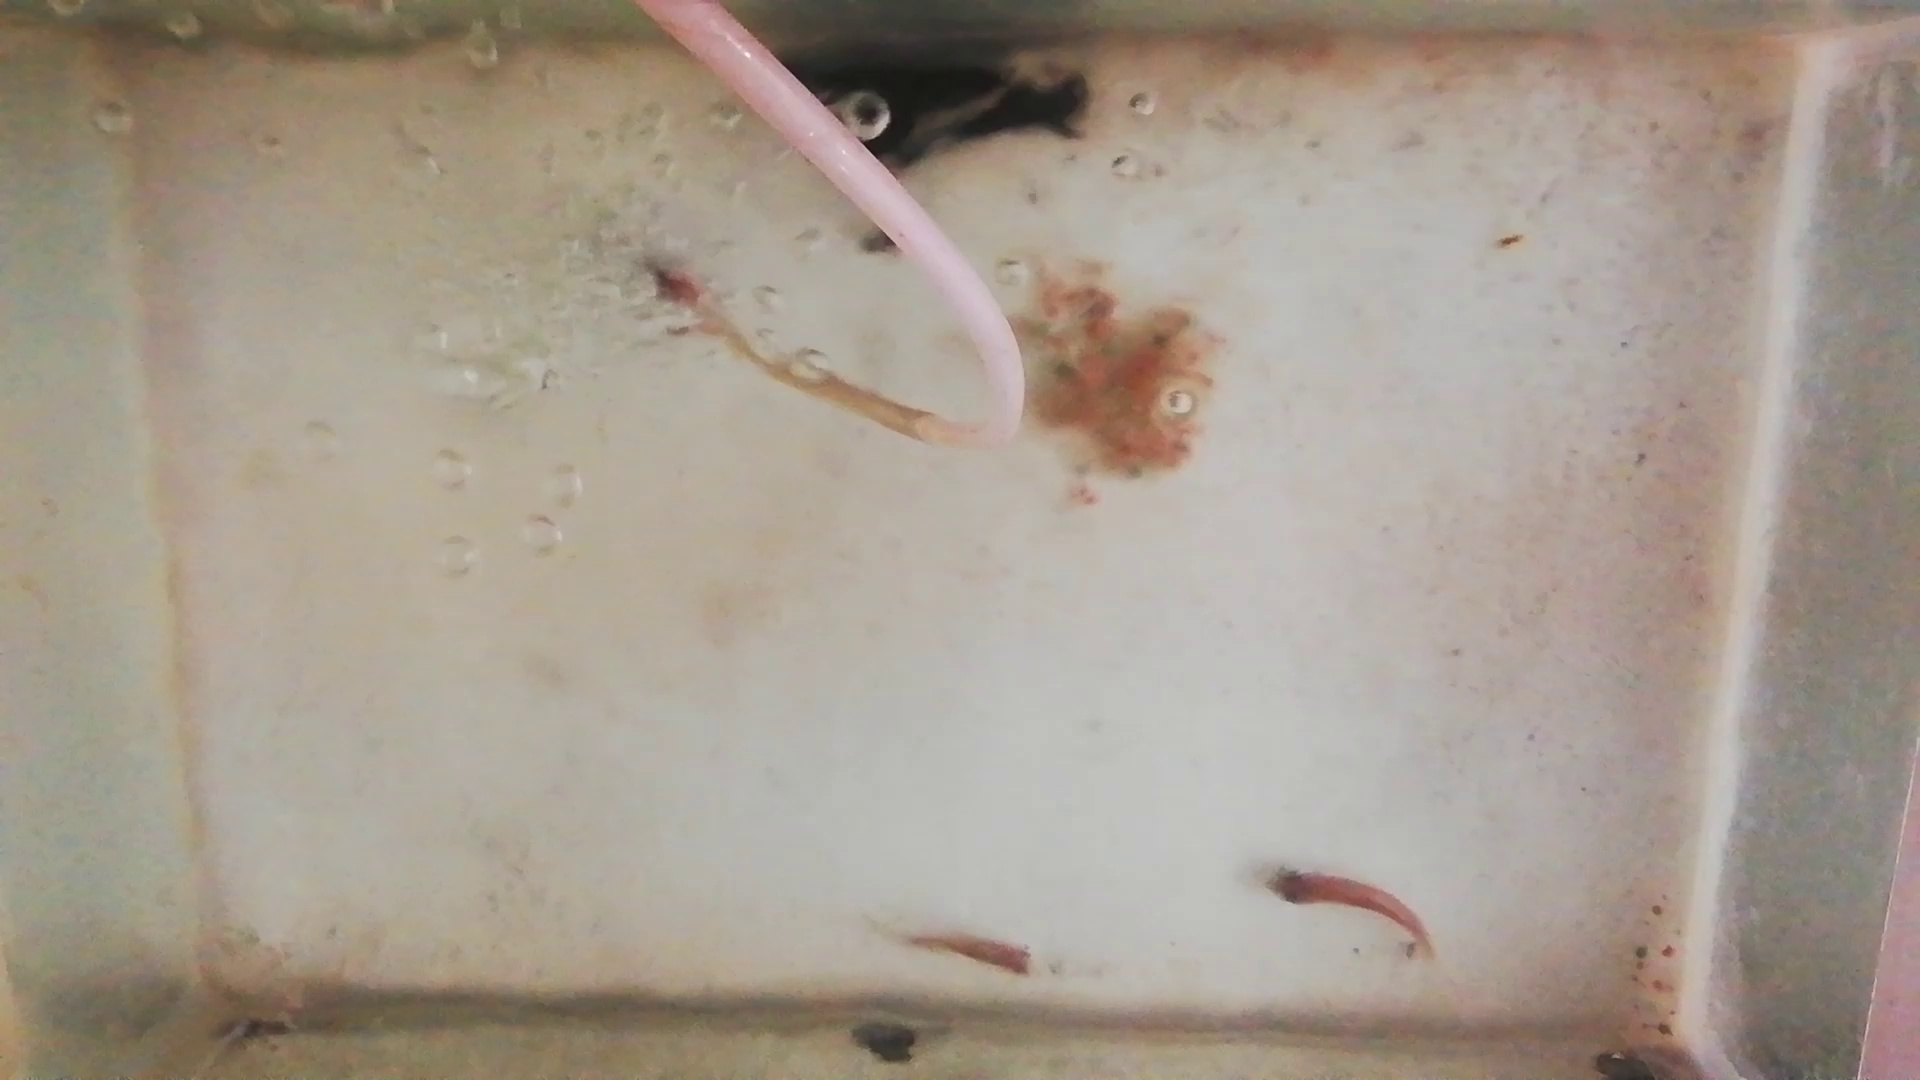fish: (1261, 870, 1432, 948), (899, 928, 1036, 973)
